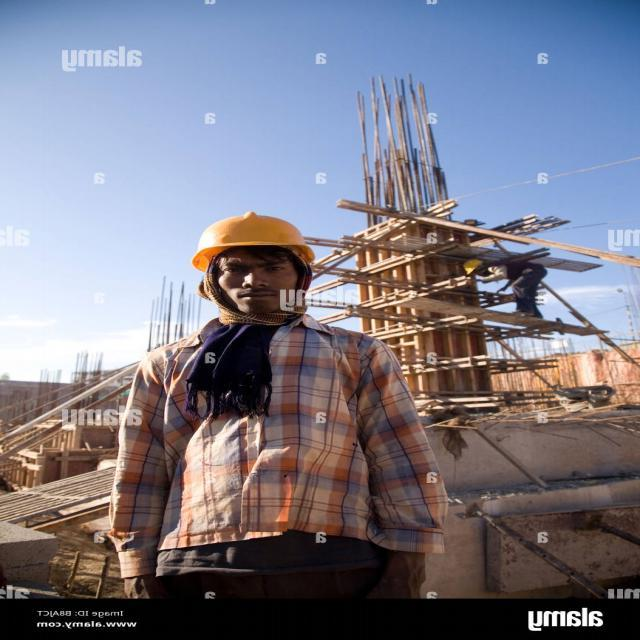safetyhelmet: (187, 208, 316, 304)
